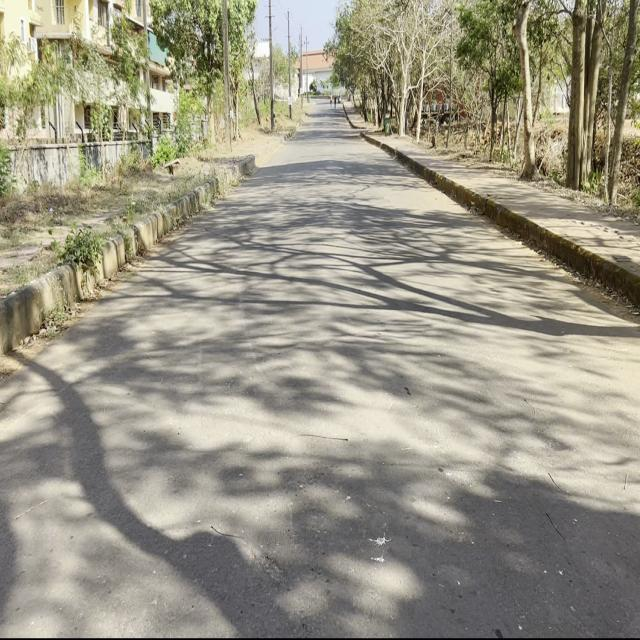Road: (3, 109, 637, 631)
